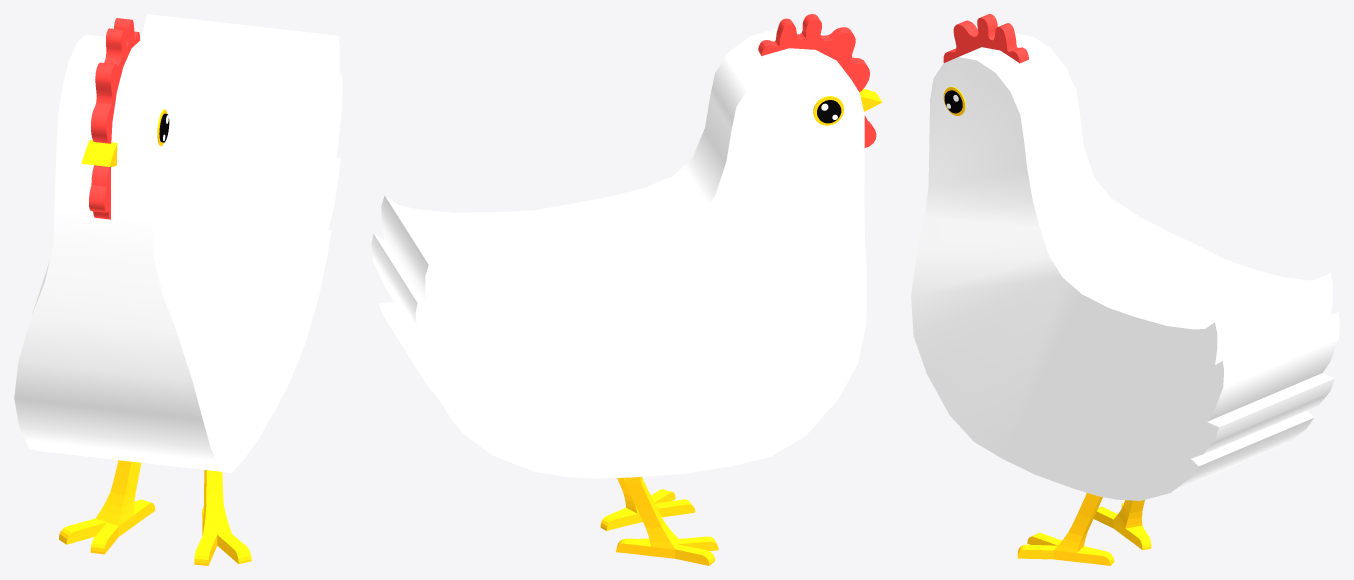
Rendered from rooster.glb.
3 views of the same model, side by side, from view 1: azimuth 30°, elevation 25°; view 2: azimuth 150°, elevation 25°; view 3: azimuth 270°, elevation 25° (orthographic). The views are drawn at different scales.
Parts seen in each view (by area): view 1: Cube.6276; view 2: Cube.6276; view 3: Cube.6276.
Part boxes in pixels (left/top/right/bottom): Cube.6276: left=14, top=14, right=342, bottom=565; Cube.6276: left=371, top=14, right=882, bottom=565; Cube.6276: left=911, top=14, right=1339, bottom=565.
Size of the model in its own units: 1.81 by 2.23 by 1.81.
Materials: 1 (1 with a texture image).
